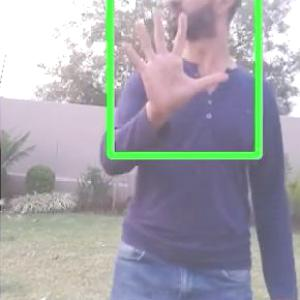follow_hand: (112, 2, 228, 110)
